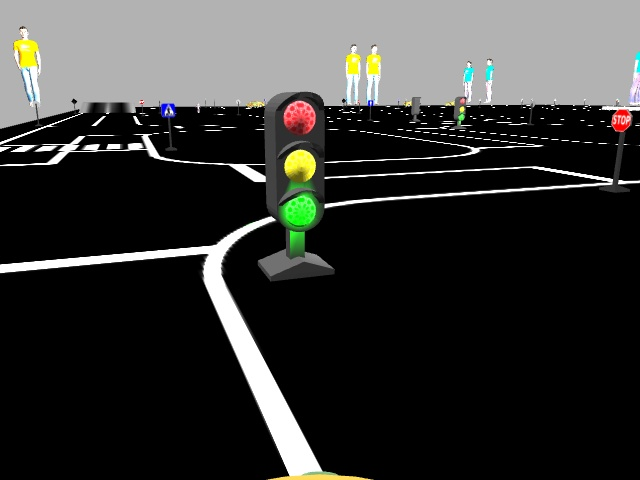Crosswalk: (161, 103, 175, 116)
Stop: (608, 107, 632, 132)
TrafficLight: (266, 88, 324, 231)
